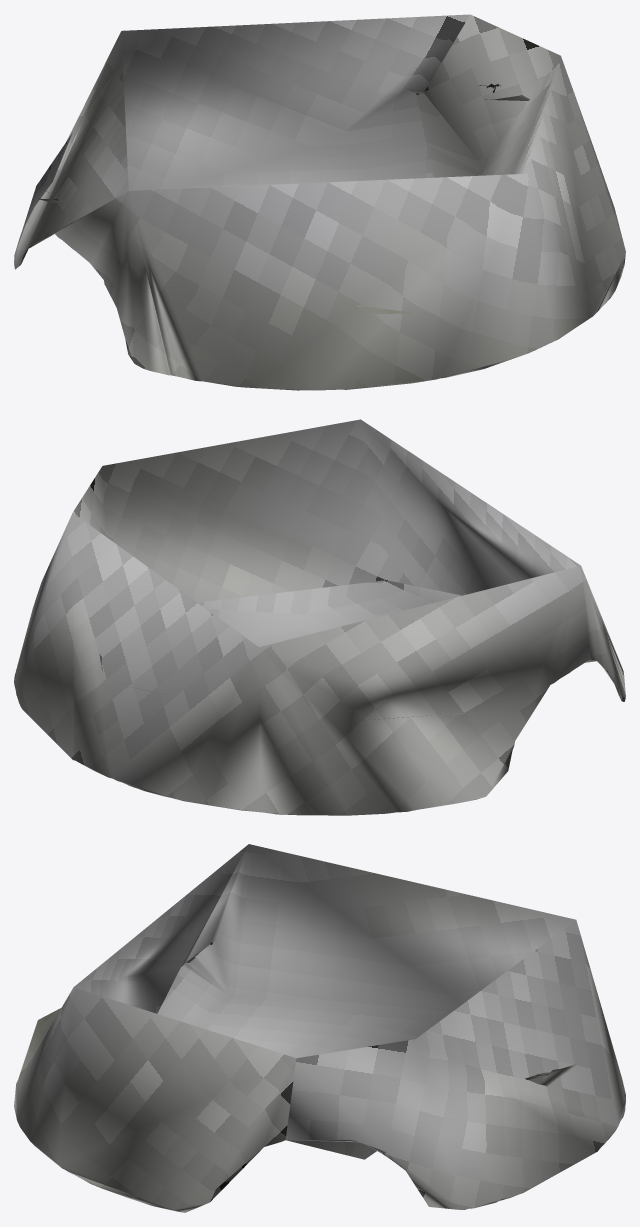
The model's file is Grreatv_Choice_Dog_Bowl_Gray_Bones_Plastic_20_fl_oz_total-low.glb.
3 views of the same model, one above another, from view 1: azimuth 30°, elevation 25°; view 2: azimuth 150°, elevation 25°; view 3: azimuth 270°, elevation 25° (orthographic).
Visible parts, largest first — view 1: Grreatv_Choice_Dog_Bowl_Gray_Bones_Plastic_20_fl_oz_total; view 2: Grreatv_Choice_Dog_Bowl_Gray_Bones_Plastic_20_fl_oz_total; view 3: Grreatv_Choice_Dog_Bowl_Gray_Bones_Plastic_20_fl_oz_total.
Boxes of the visible parts, x1,y1,x2,y2 form: Grreatv_Choice_Dog_Bowl_Gray_Bones_Plastic_20_fl_oz_total: (14,14,625,390); Grreatv_Choice_Dog_Bowl_Gray_Bones_Plastic_20_fl_oz_total: (14,419,625,815); Grreatv_Choice_Dog_Bowl_Gray_Bones_Plastic_20_fl_oz_total: (14,844,625,1212).
Bounding box in the file's own units: 0.1702 × 0.0536 × 0.183.
1 material, 1 textured.
